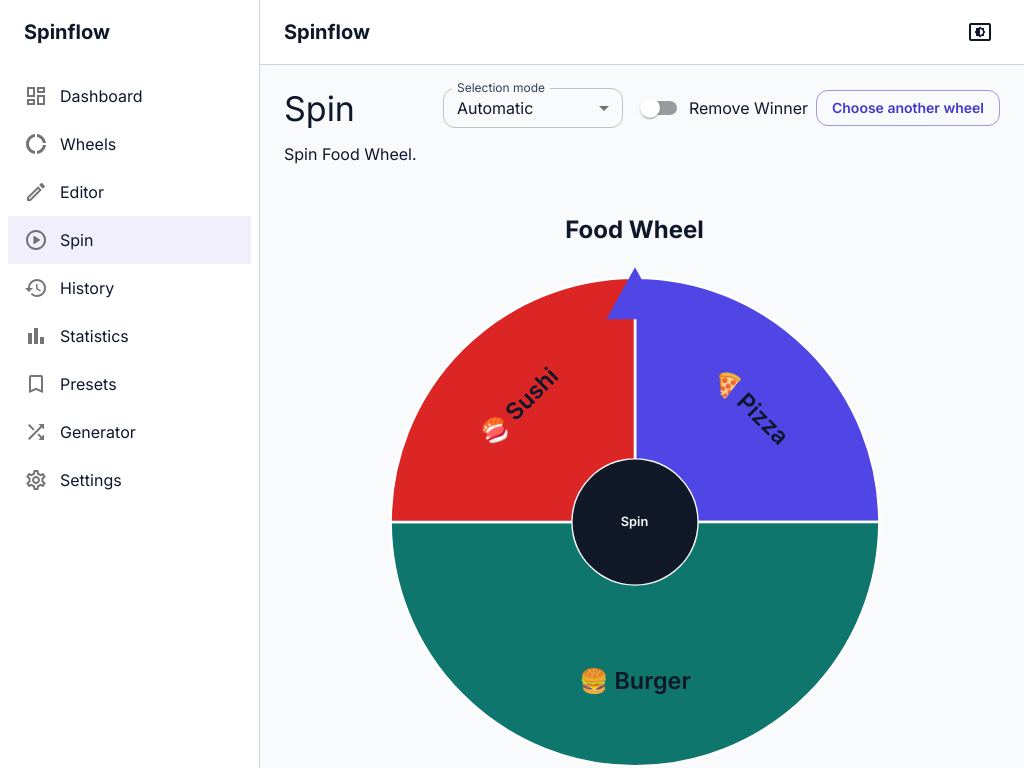
SpinScreen › automatically spins again from the final result when selection mode is automatic
Click the button with aria-label "Spin the wheel" at (634, 522), box x1=575 y1=462 x2=694 y2=582
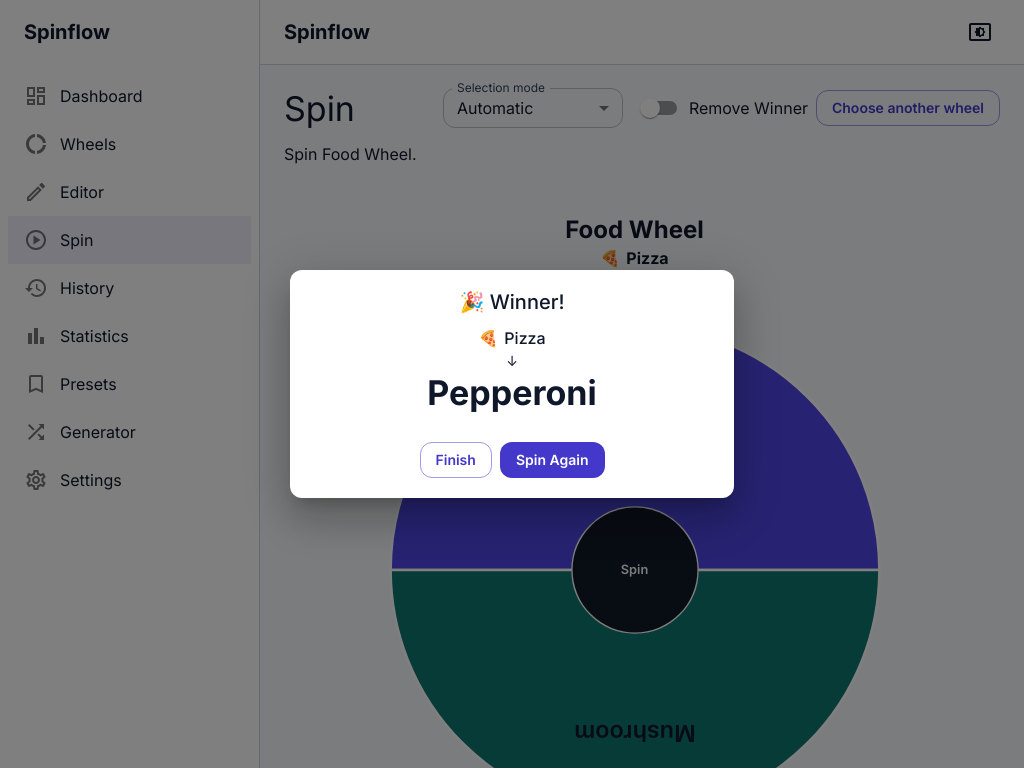
Click the button "Finish" at (456, 460), box x1=420 y1=442 x2=492 y2=478
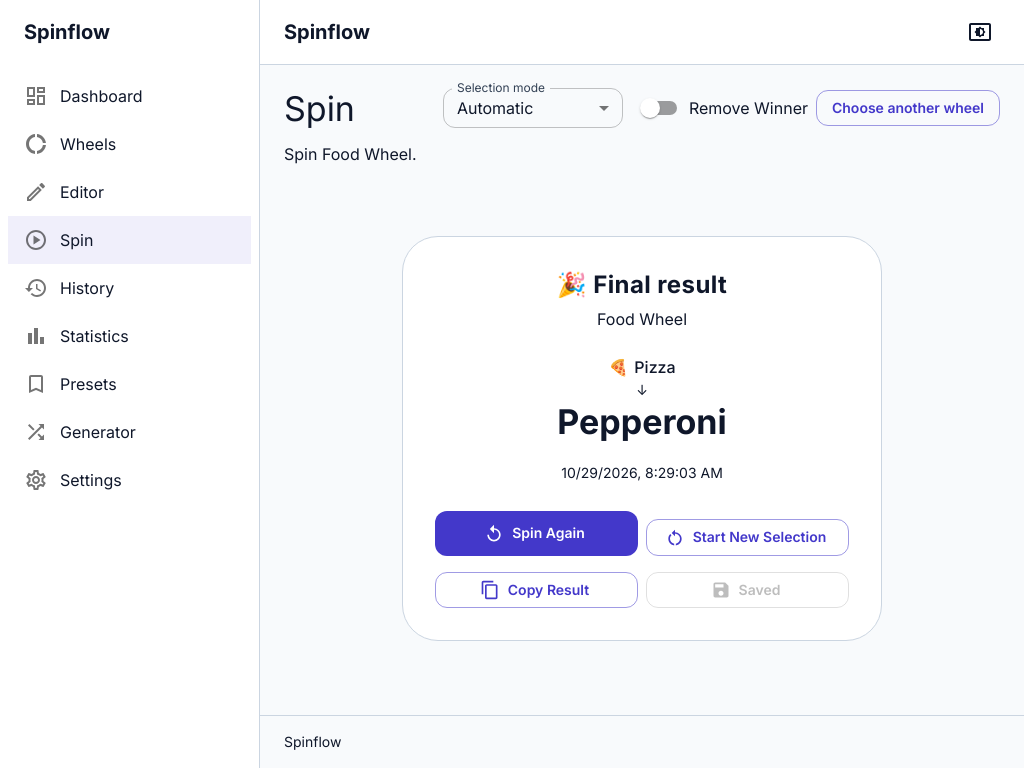
Click the button "Spin Again" at (536, 534), box x1=435 y1=511 x2=638 y2=556
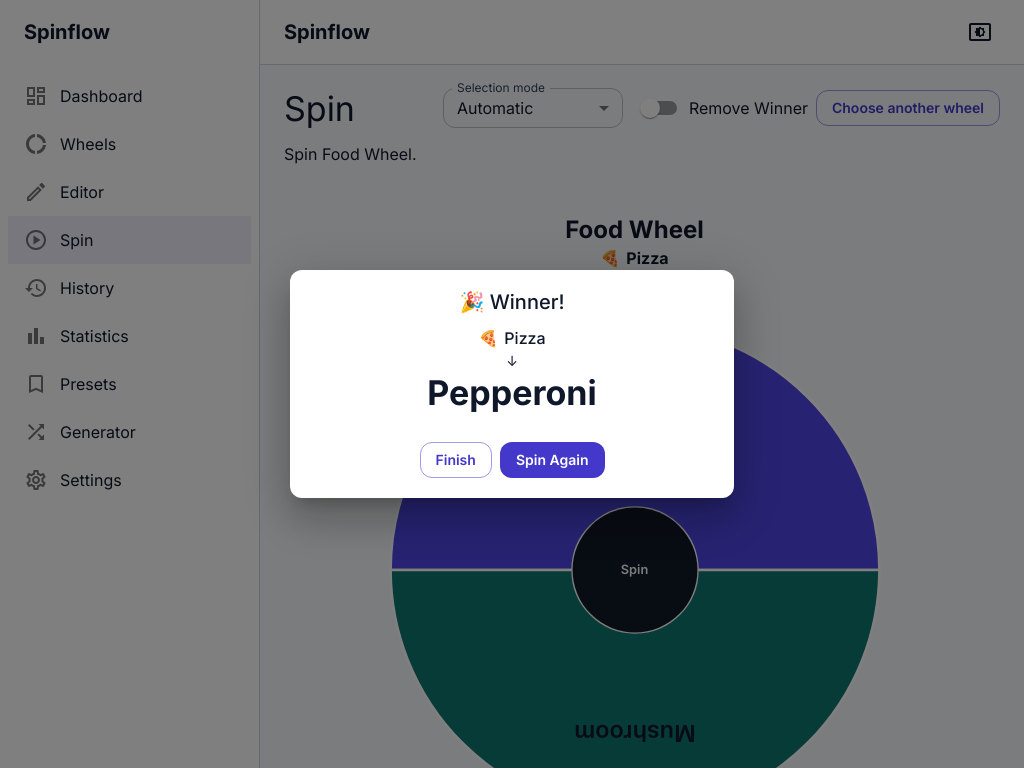
Expected: the dialog "🎉 Winner!" is shown, x1=290 y1=270 x2=734 y2=498
